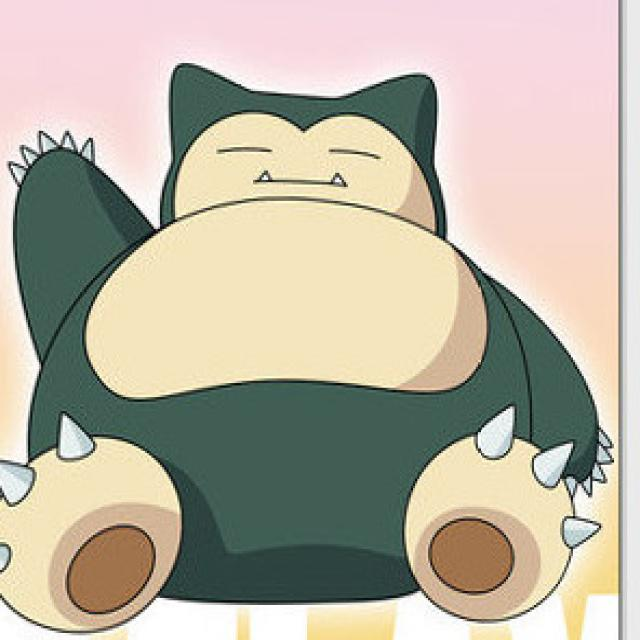Snorlax: (9, 63, 578, 623)
